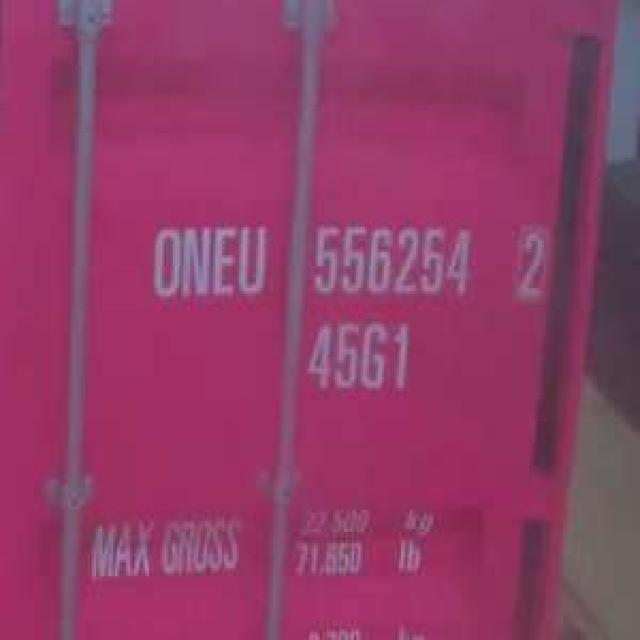dv: (507, 214, 552, 309)
owner: (141, 213, 271, 305)
serial: (308, 213, 476, 306)
size: (301, 314, 416, 401)
